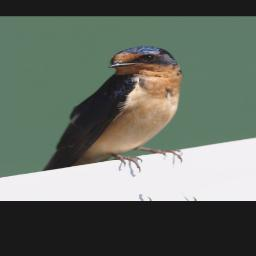Swallow: (3, 42, 213, 182)
